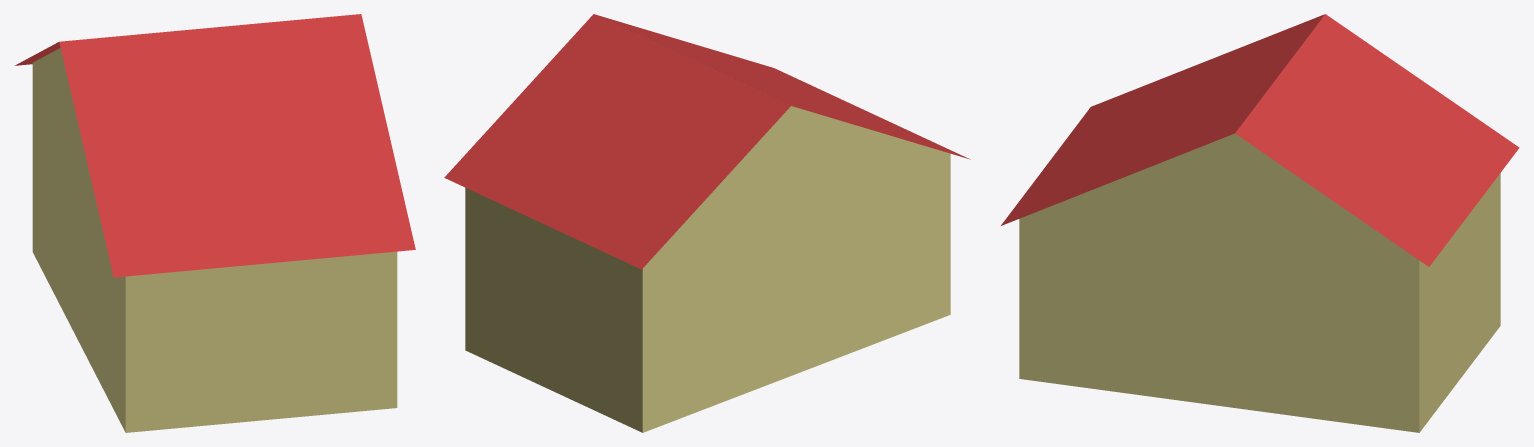
3 renders of one model, left to right at view 1: azimuth 30°, elevation 25°; view 2: azimuth 150°, elevation 25°; view 3: azimuth 270°, elevation 25°, orthographic. The views are drawn at different scales.
Bounding box in the file's own units: 13.99 × 17.3 × 10.34.
